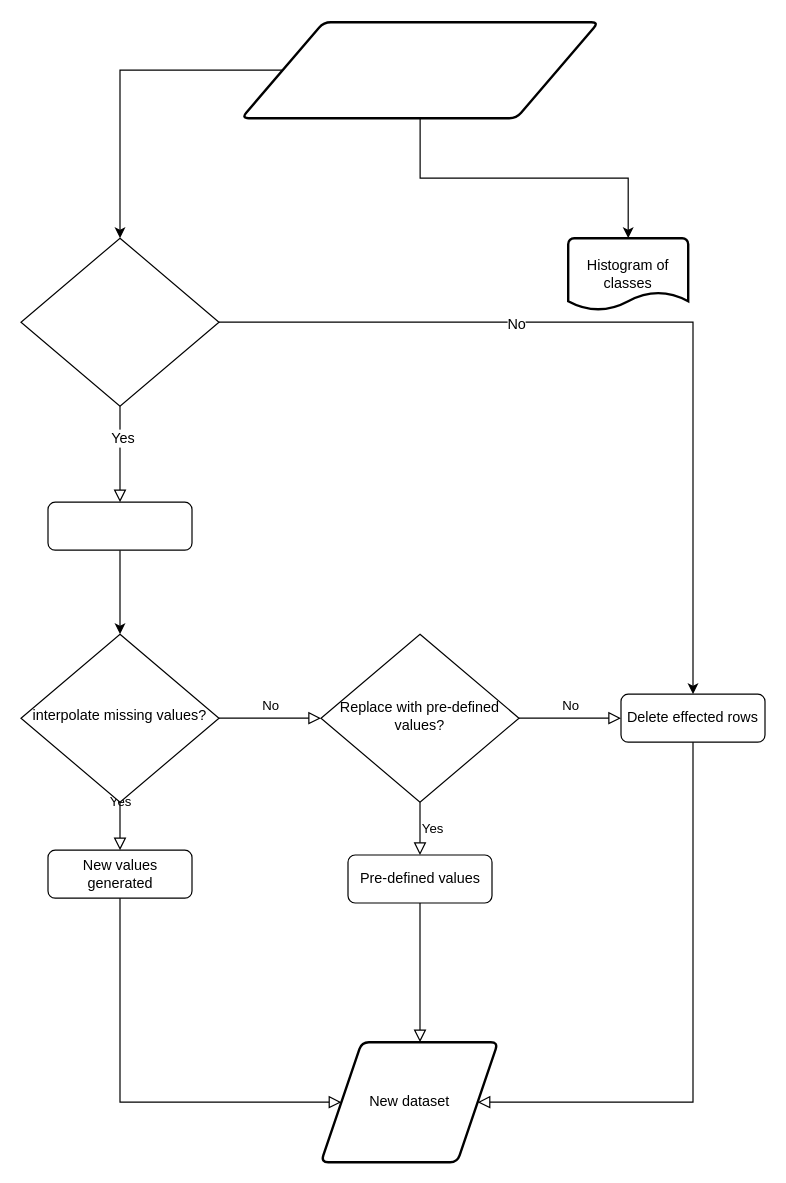
The diagram is 786 pixels wide and 1183 high, and some of its shapes have lost their labels. The shapes that lost their labels are listed below. From the top down, each one's centre as x and y in pixels, then its label:
the point at 419,69: Original data
the point at 119,321: Value transformation?
the point at 119,525: Transform values
